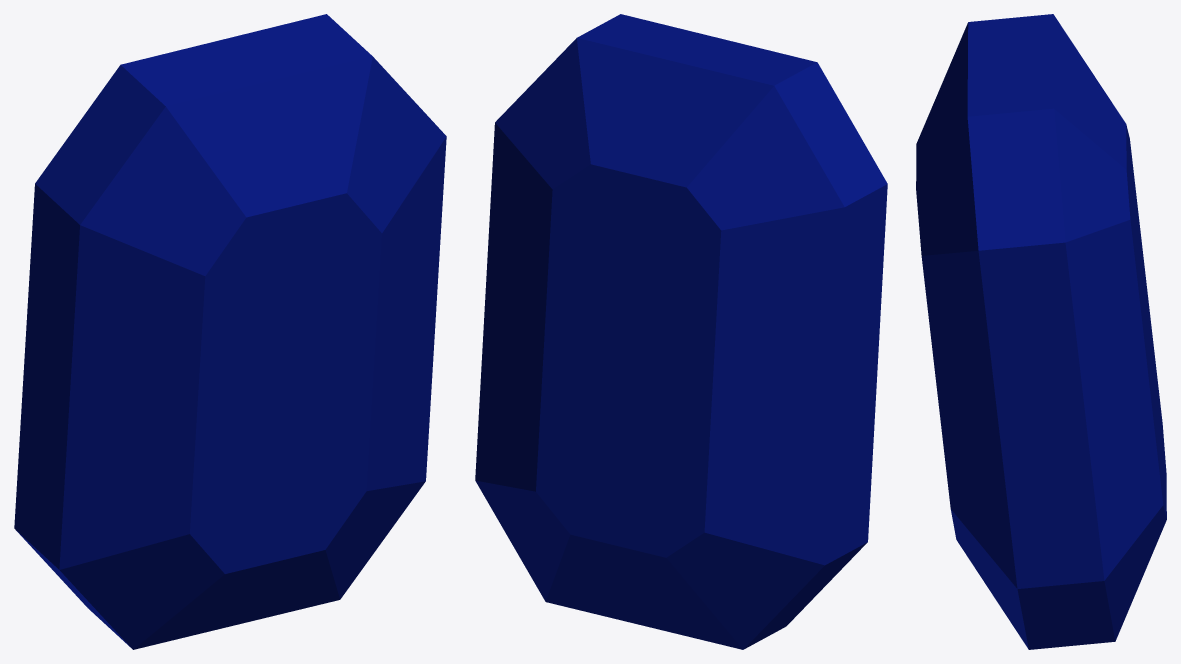
Rendered from sapphire.glb.
3 views of the same model, side by side, from view 1: azimuth 30°, elevation 25°; view 2: azimuth 150°, elevation 25°; view 3: azimuth 270°, elevation 25° (orthographic). The views are drawn at different scales.
Parts seen in each view (by area): view 1: SM_Sapphire_Gem2; view 2: SM_Sapphire_Gem2; view 3: SM_Sapphire_Gem2.
Part boxes in pixels (x1=…): SM_Sapphire_Gem2: x1=14, y1=14, x2=446, y2=649; SM_Sapphire_Gem2: x1=475, y1=14, x2=887, y2=649; SM_Sapphire_Gem2: x1=916, y1=14, x2=1166, y2=649.
Size of the model in its own units: 0.3343 by 0.5029 by 0.2112.
1 material, 1 textured.
